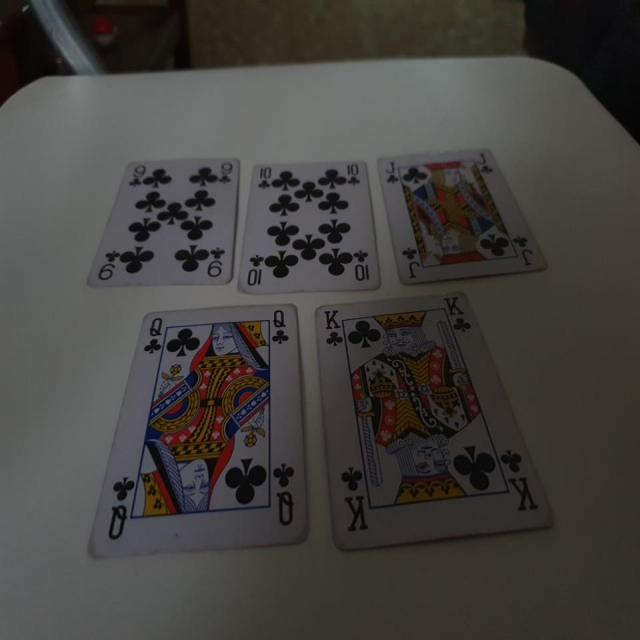10 Trefoils: (232, 161, 381, 294)
9 Trefoils: (84, 157, 241, 290)
J Trefoils: (377, 146, 548, 290)
K Trefoils: (314, 290, 557, 556)
Q Trefoils: (86, 301, 307, 559)
